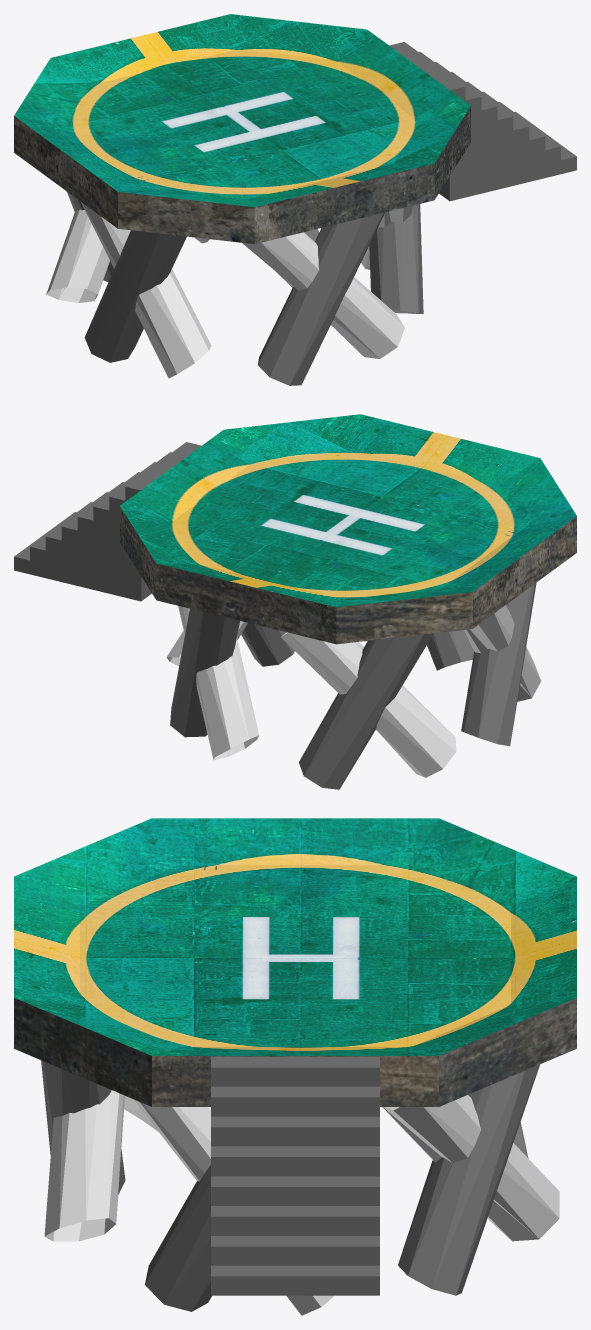
Rendered from Helipad.dae.
3 views of the same model, one above another, from view 1: azimuth 30°, elevation 25°; view 2: azimuth 150°, elevation 25°; view 3: azimuth 270°, elevation 25° (orthographic). The views are drawn at different scales.
Parts seen in each view (by area): view 1: Pad, Cylinder, Cylinder.001, Stairs; view 2: Pad, Cylinder, Cylinder.001, Stairs; view 3: Pad, Stairs, Cylinder, Cylinder.001.
Part boxes in pixels (x1,y1,x2,y2): Pad: (14, 14, 470, 244); Cylinder: (67, 192, 423, 385); Cylinder.001: (46, 202, 412, 378); Stairs: (389, 42, 576, 201); Pad: (120, 414, 576, 644); Cylinder: (170, 582, 536, 789); Cylinder.001: (166, 605, 541, 777); Stairs: (14, 442, 201, 601); Pad: (14, 818, 576, 1106); Stairs: (211, 1056, 379, 1295); Cylinder: (41, 1060, 539, 1311); Cylinder.001: (44, 1090, 559, 1315).
Size of the model in its own units: 2.72 by 2 by 1.12.
3 materials, 1 textured.
